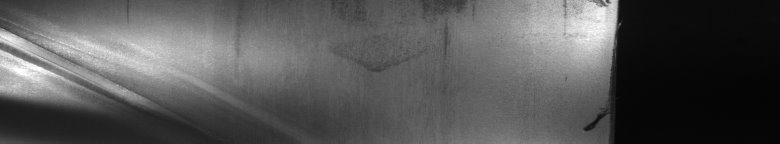ke: (4, 4, 239, 116)
